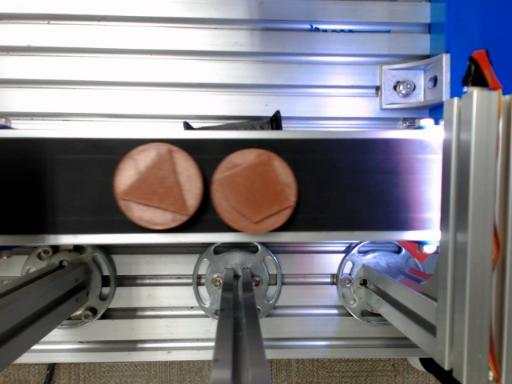Brown_Waper: (113, 142, 202, 229), (210, 148, 298, 233)
